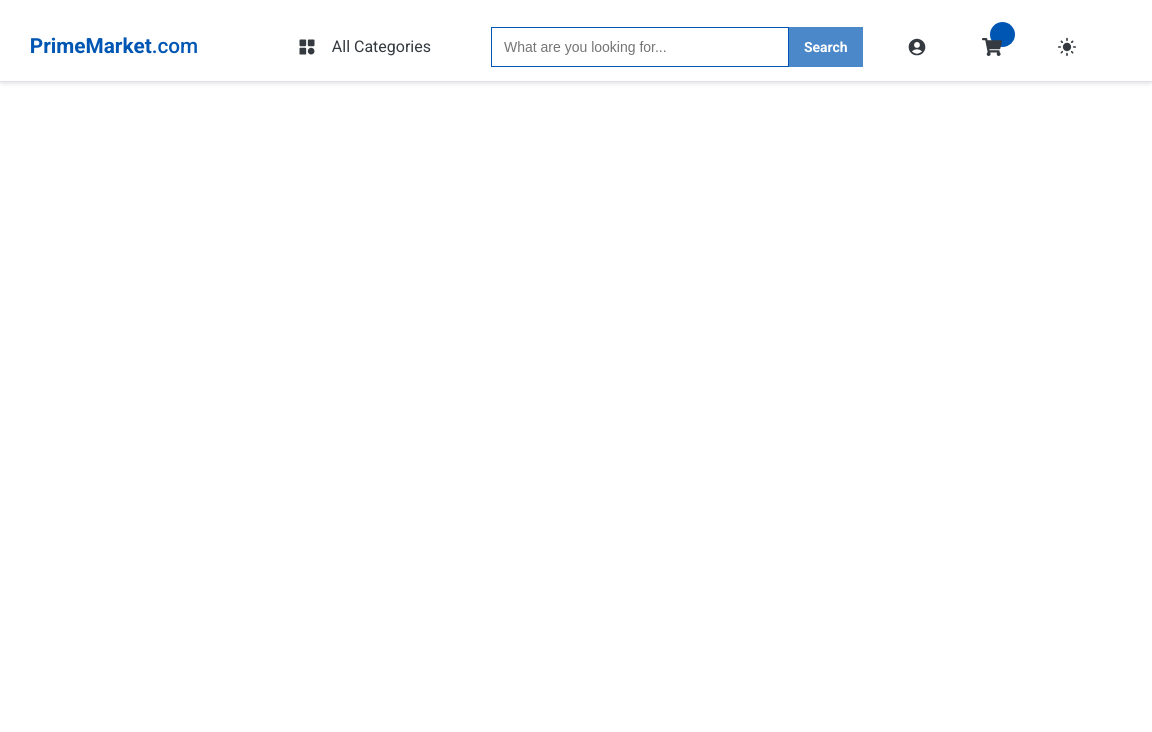
it: Header Component › should display all categories when all categories button clicked
Click the text "All Categories".
click(364, 46)  # box 297,36 -> 431,56
(page scrolled)
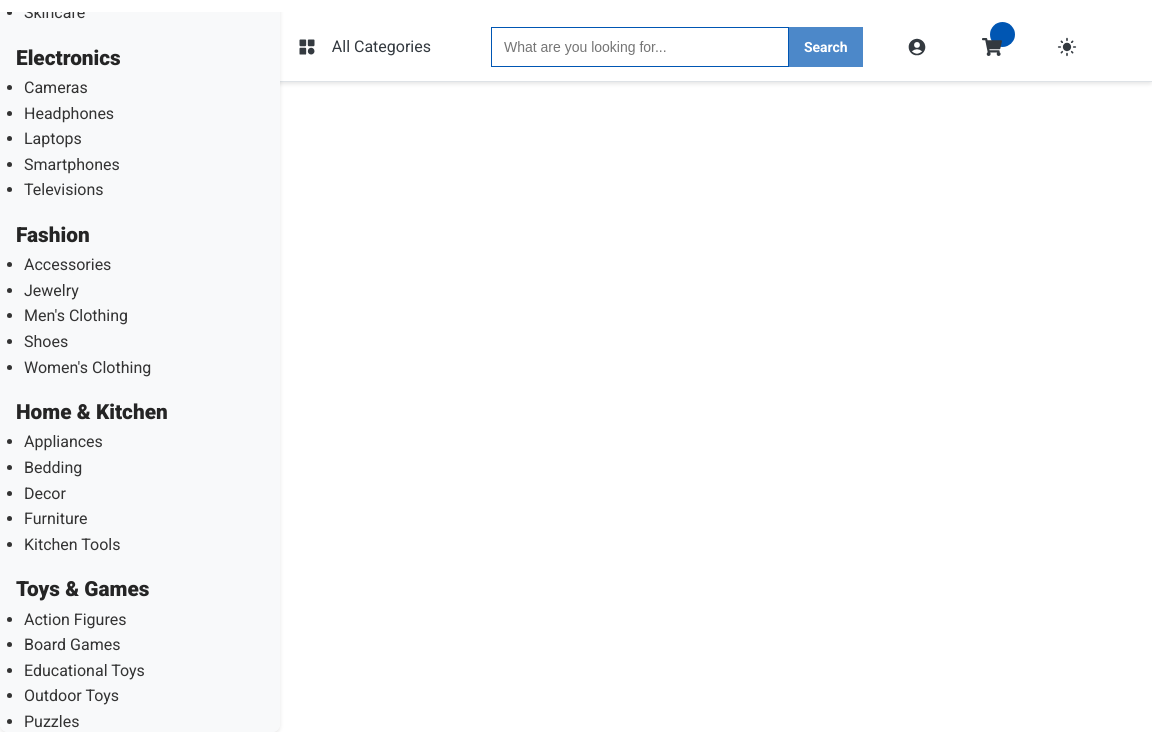
Result: the list item "Accessories" is shown at 24,255 -> 111,274
Result: the list item "Action Figures" is shown at 24,610 -> 126,629
Result: the list item "Appliances" is shown at 24,432 -> 103,451
